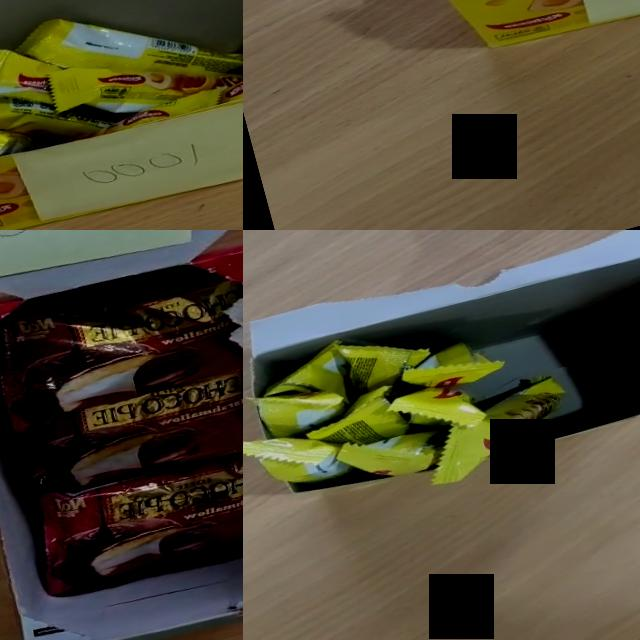Ahh: (9, 0, 243, 133), (44, 20, 243, 135), (410, 370, 582, 487), (0, 44, 128, 168), (243, 415, 355, 505), (331, 416, 454, 492), (298, 380, 414, 460), (253, 338, 356, 424), (245, 373, 352, 447), (394, 331, 508, 400), (87, 84, 228, 138), (338, 323, 438, 398), (384, 376, 486, 446), (0, 30, 73, 116), (0, 57, 40, 187), (209, 43, 243, 104)
Chocopie: (0, 249, 243, 433), (18, 432, 243, 603), (10, 354, 243, 513)
